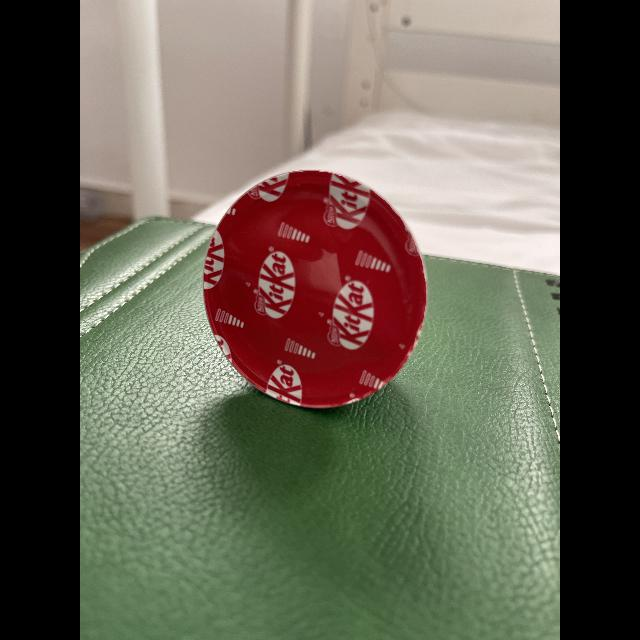intact_capsule: (190, 164, 434, 418)
